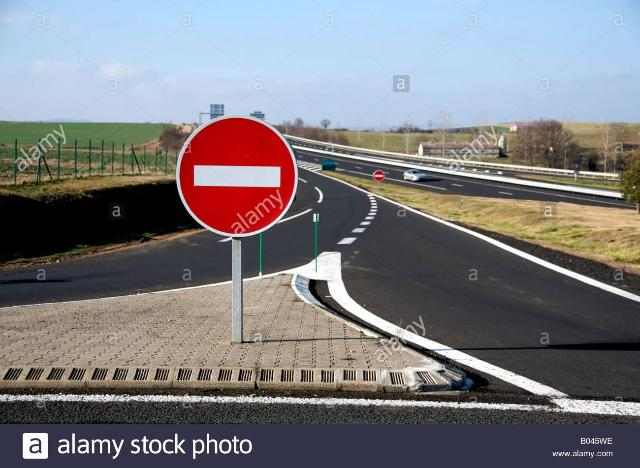B2: (175, 114, 299, 238)
